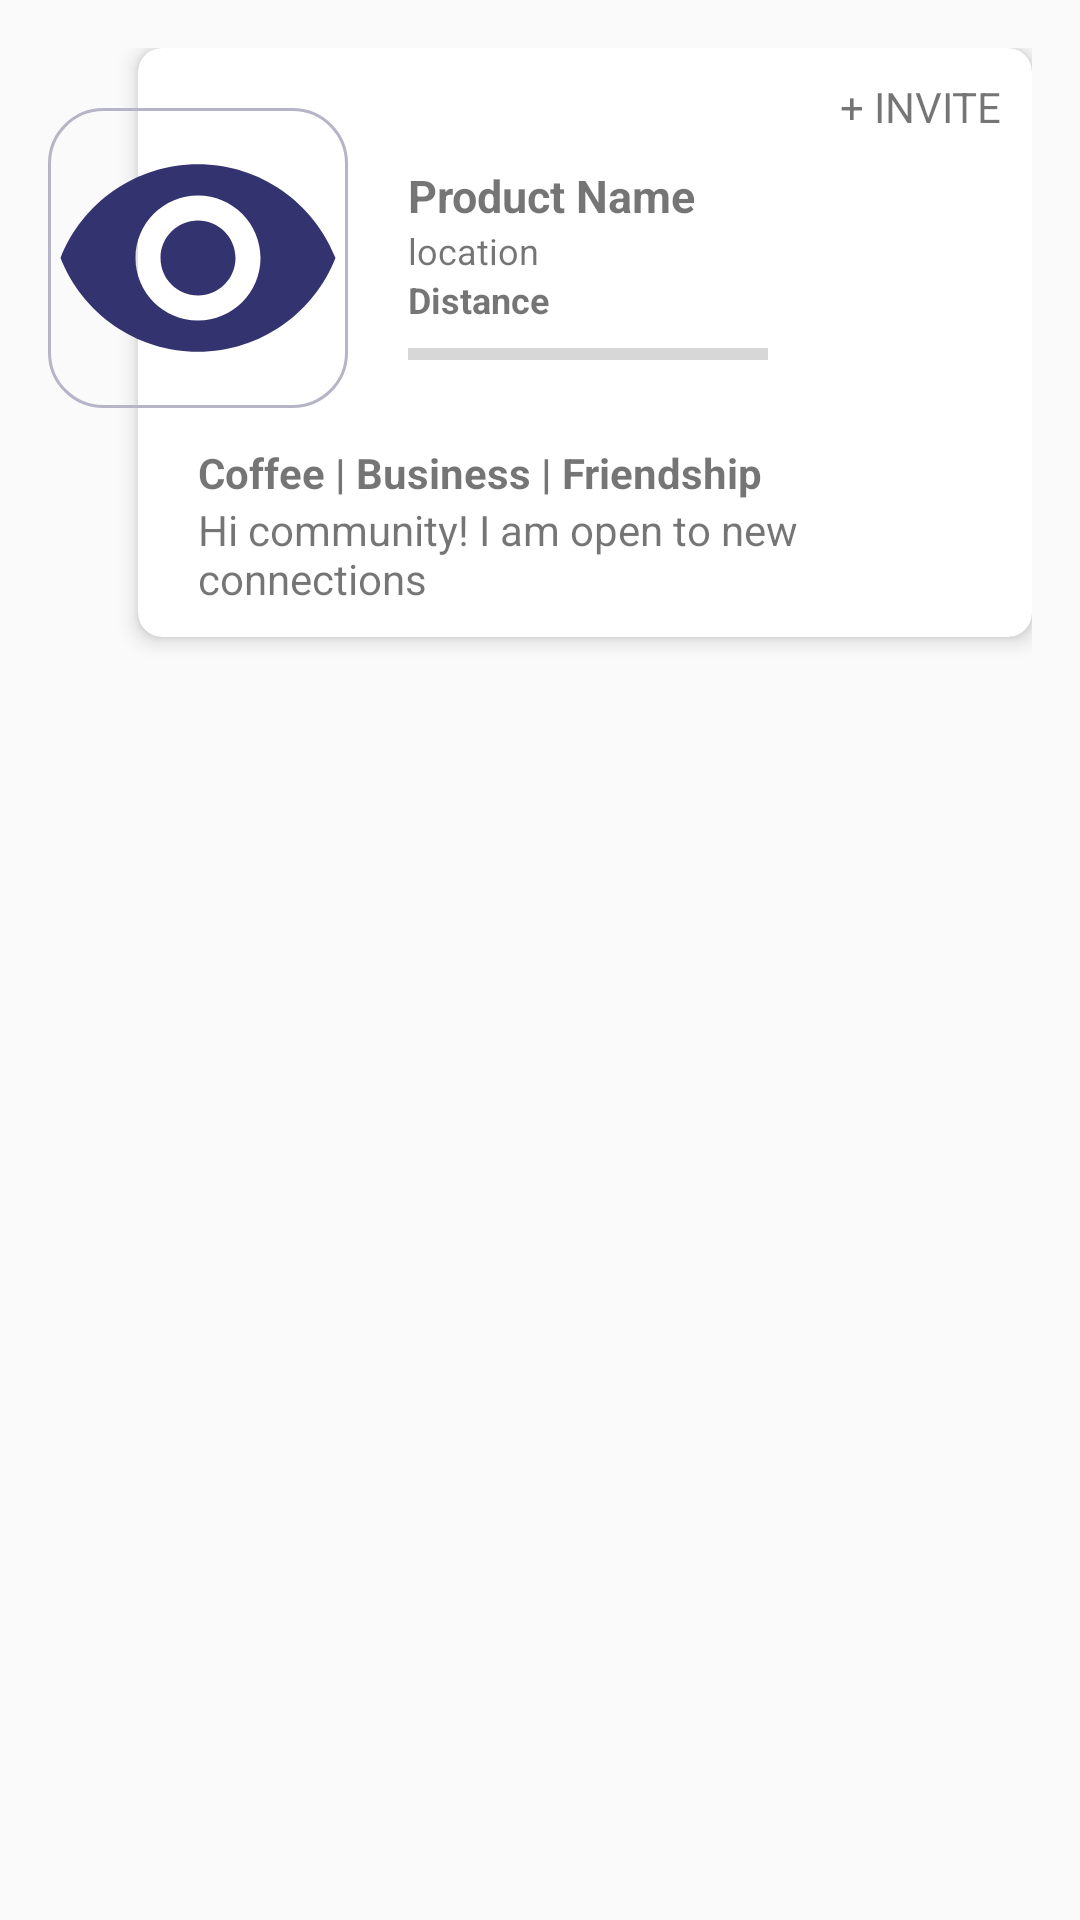

Point at icon controls on the screen. Image size 1080px×1920px, points as point (x, y).
eye: point (198, 258)
